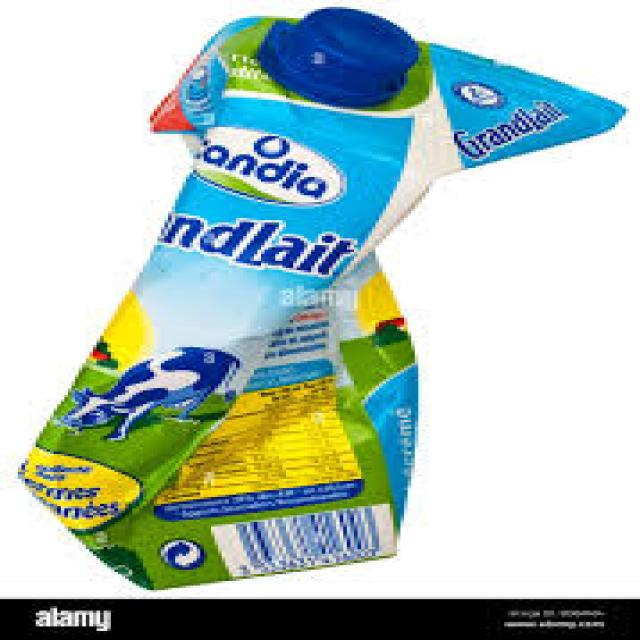Carton: (32, 4, 625, 593)
